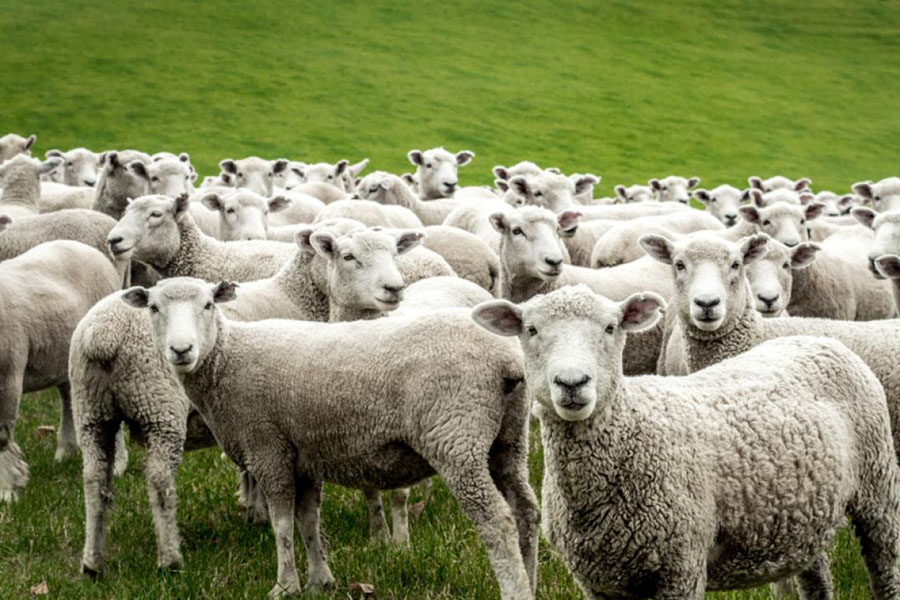sheep: (114, 276, 549, 600), (467, 285, 900, 593)
